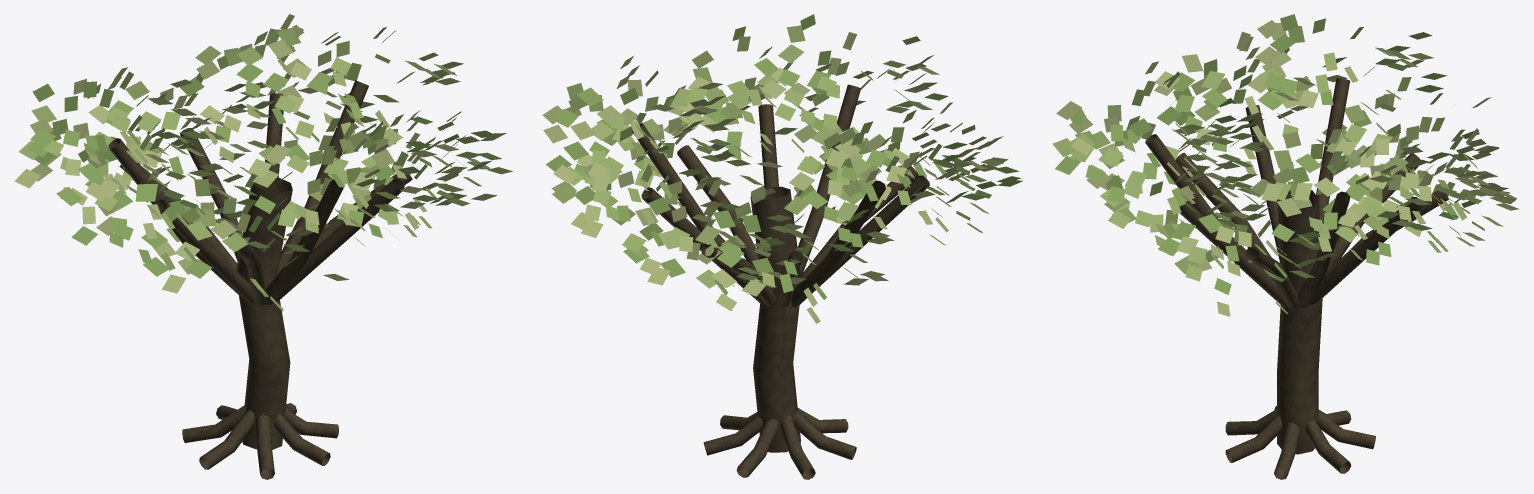
The model's file is evermere-oak.glb.
3 renders of one model, left to right at view 1: azimuth 30°, elevation 25°; view 2: azimuth 150°, elevation 25°; view 3: azimuth 270°, elevation 25°, orthographic. The views are drawn at different scales.
Visible parts, largest first — view 1: Old oak root; view 2: Old oak root; view 3: Old oak root.
Part boxes in pixels (<box>): Old oak root: <box>14,14,512,479</box>; Old oak root: <box>542,14,1022,479</box>; Old oak root: <box>1052,14,1519,479</box>.
Bounding box in the file's own units: 7.81 × 6.41 × 7.64.
Materials: 4 (1 with a texture image).
